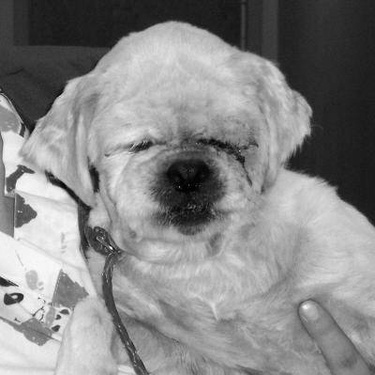dog: (14, 17, 370, 372)
